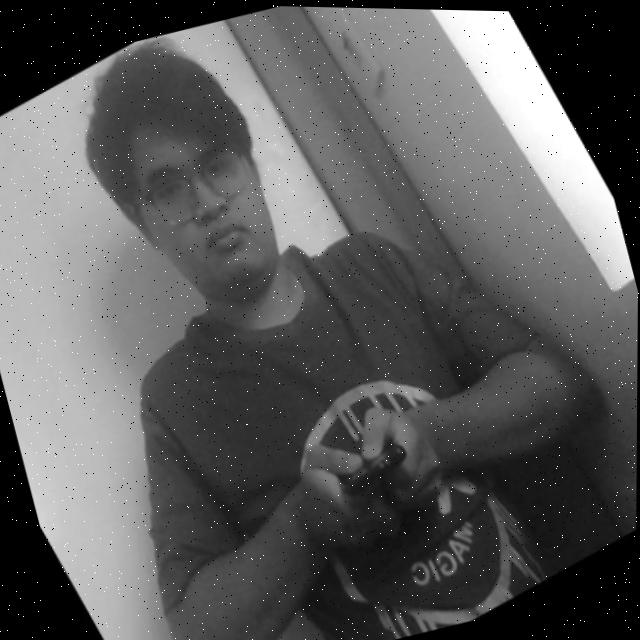phone: (302, 389, 438, 539)
